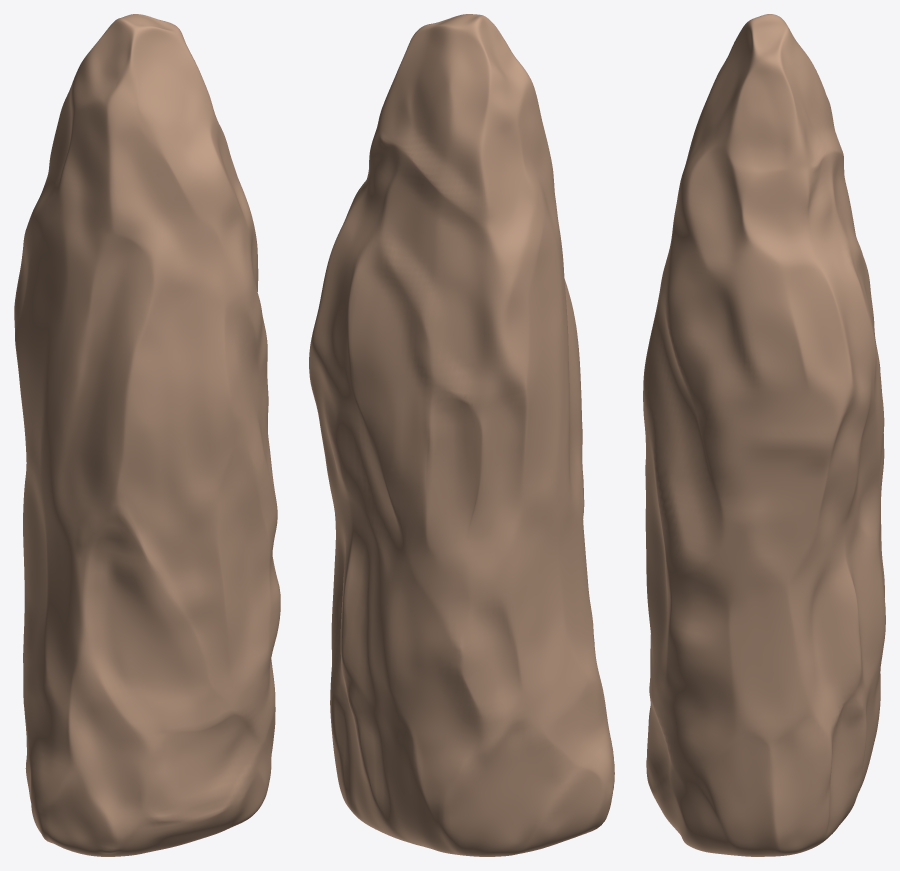
Rendered from Pillar_HP.FBX.
3 views of the same model, side by side, from view 1: azimuth 30°, elevation 25°; view 2: azimuth 150°, elevation 25°; view 3: azimuth 270°, elevation 25° (orthographic). The views are drawn at different scales.
Parts seen in each view (by area): view 1: Box022; view 2: Box022; view 3: Box022.
Boxes of the visible parts, x1,y1,x2,y2 form: Box022: (14,14,280,856); Box022: (309,14,614,856); Box022: (643,14,885,856).
Size of the model in its own units: 792 by 2480 by 685.
